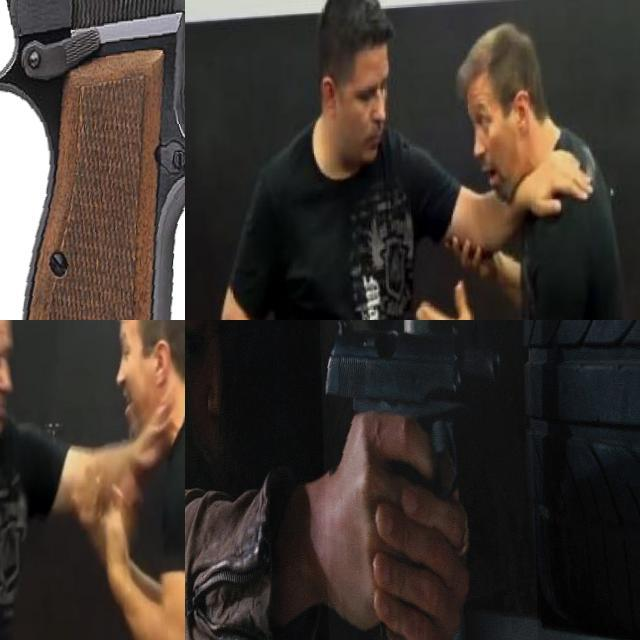gun-knife-thesis - v11 Yolov5 augmented: (318, 320, 535, 640), (0, 0, 185, 320)
